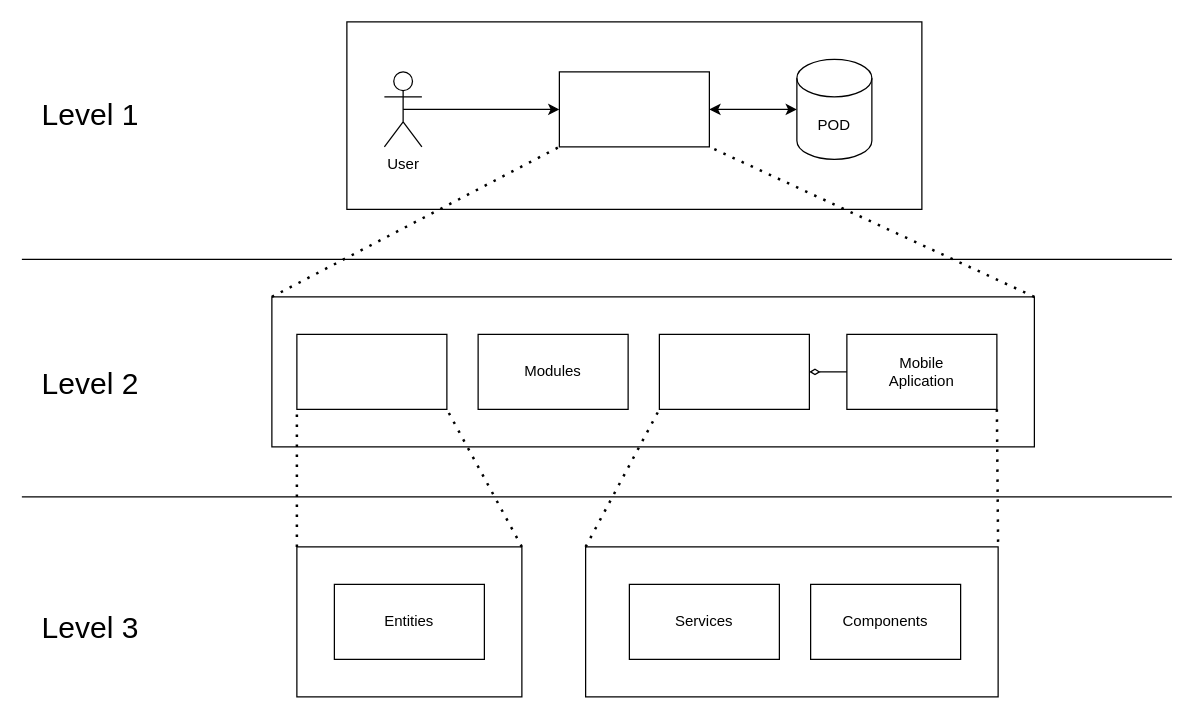
Some shapes in this 1195 by 719 pixel diagram are drawn without their labels. Here are the shapes that lost their labels. From the top down, the centre of each, then its label:
At [633,109]: "Radarin".
At [371,371]: "Database".
At [733,371]: "Web Application".
